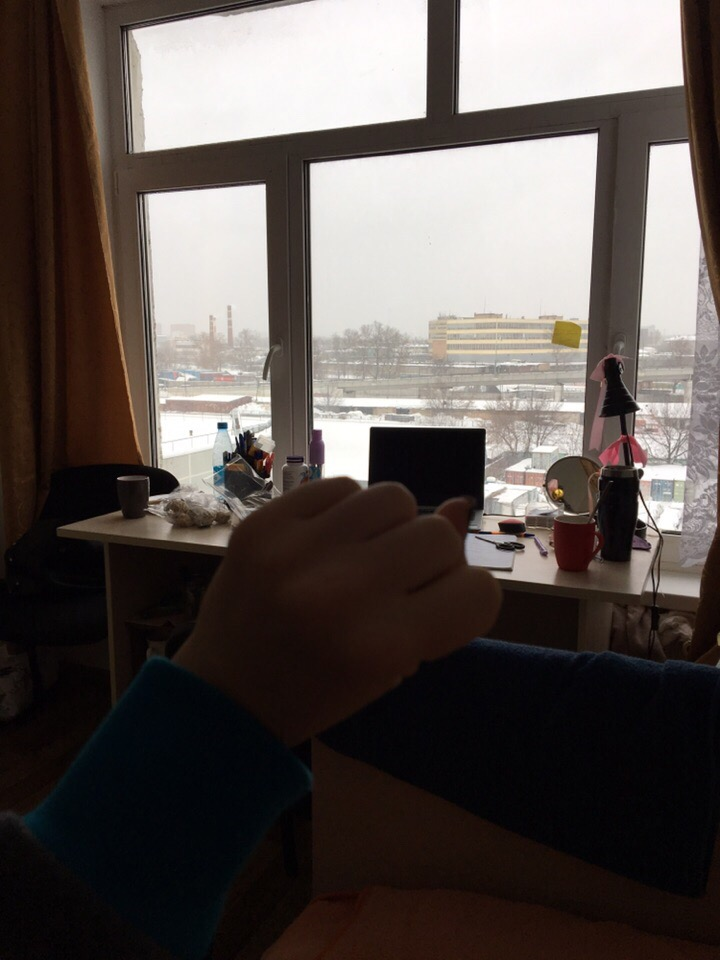hand: (240, 487, 479, 703)
